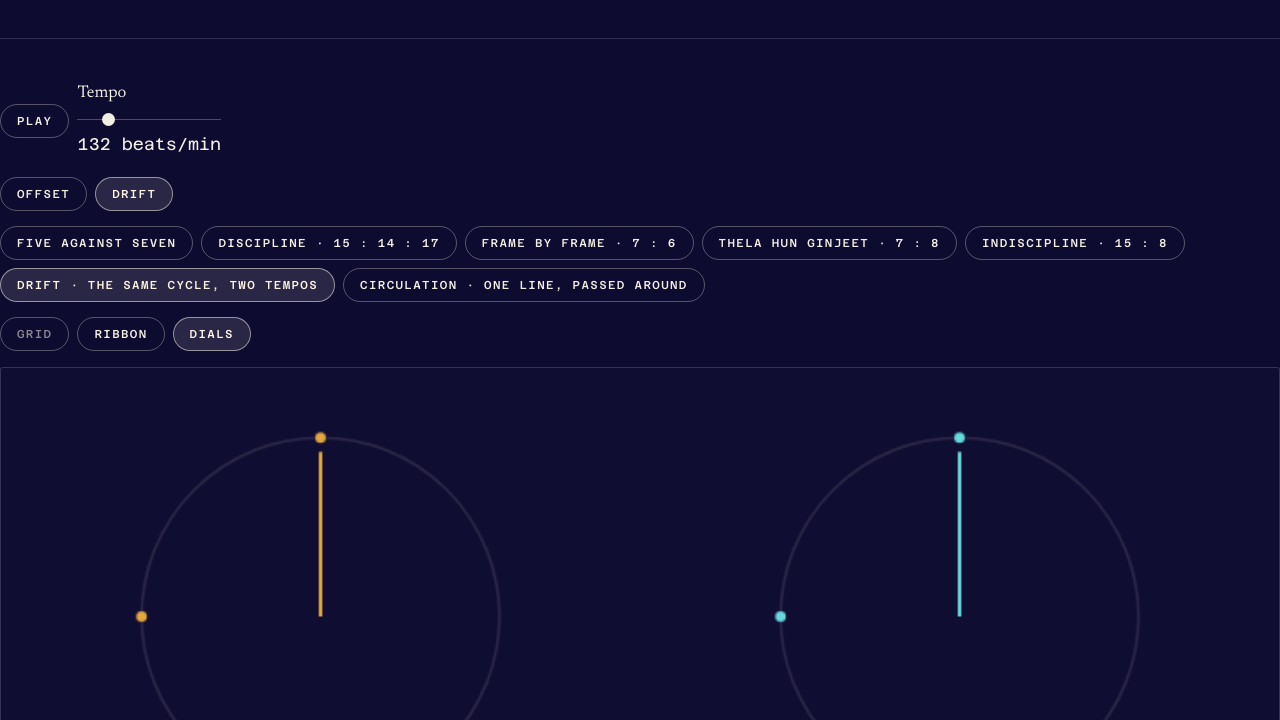
Test: rendering and presets › the live summary reports playing, in drift too
Click the button "Play" at (35, 121), box [0,104,69,138]
(page scrolled)
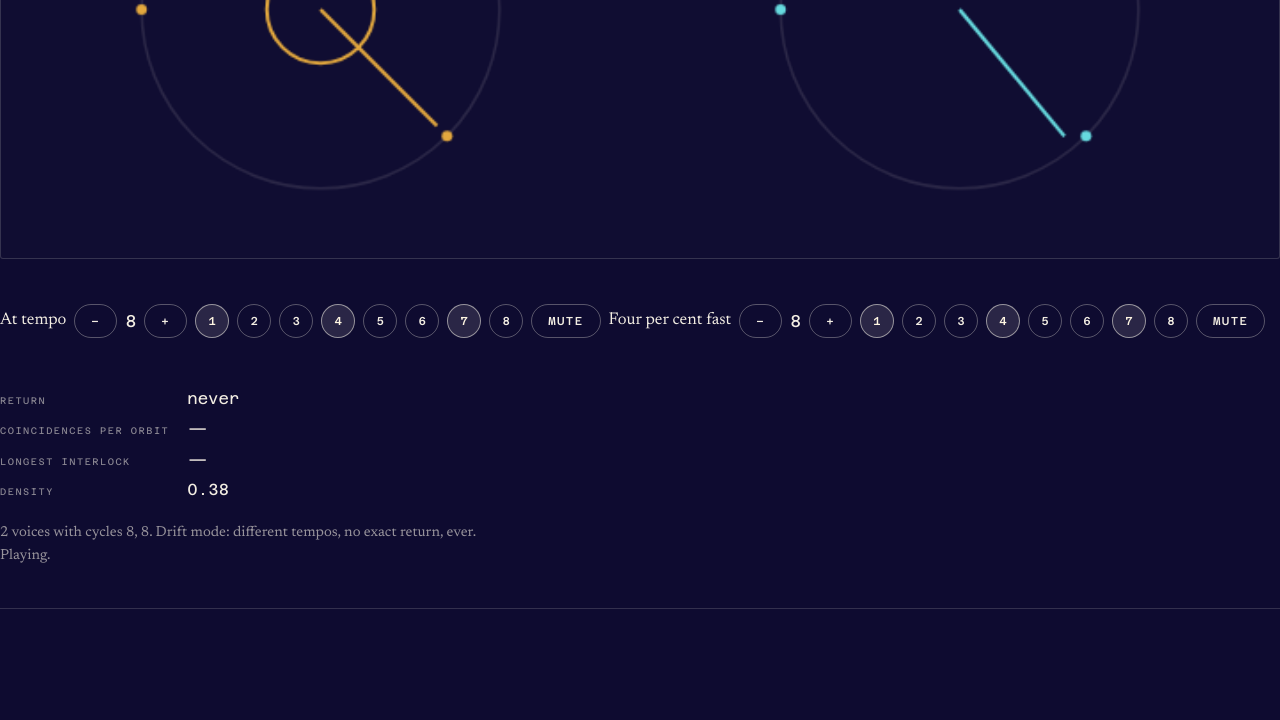
Now the text "no exact return, ever. Playing." is shown, box [0,525,476,563]
